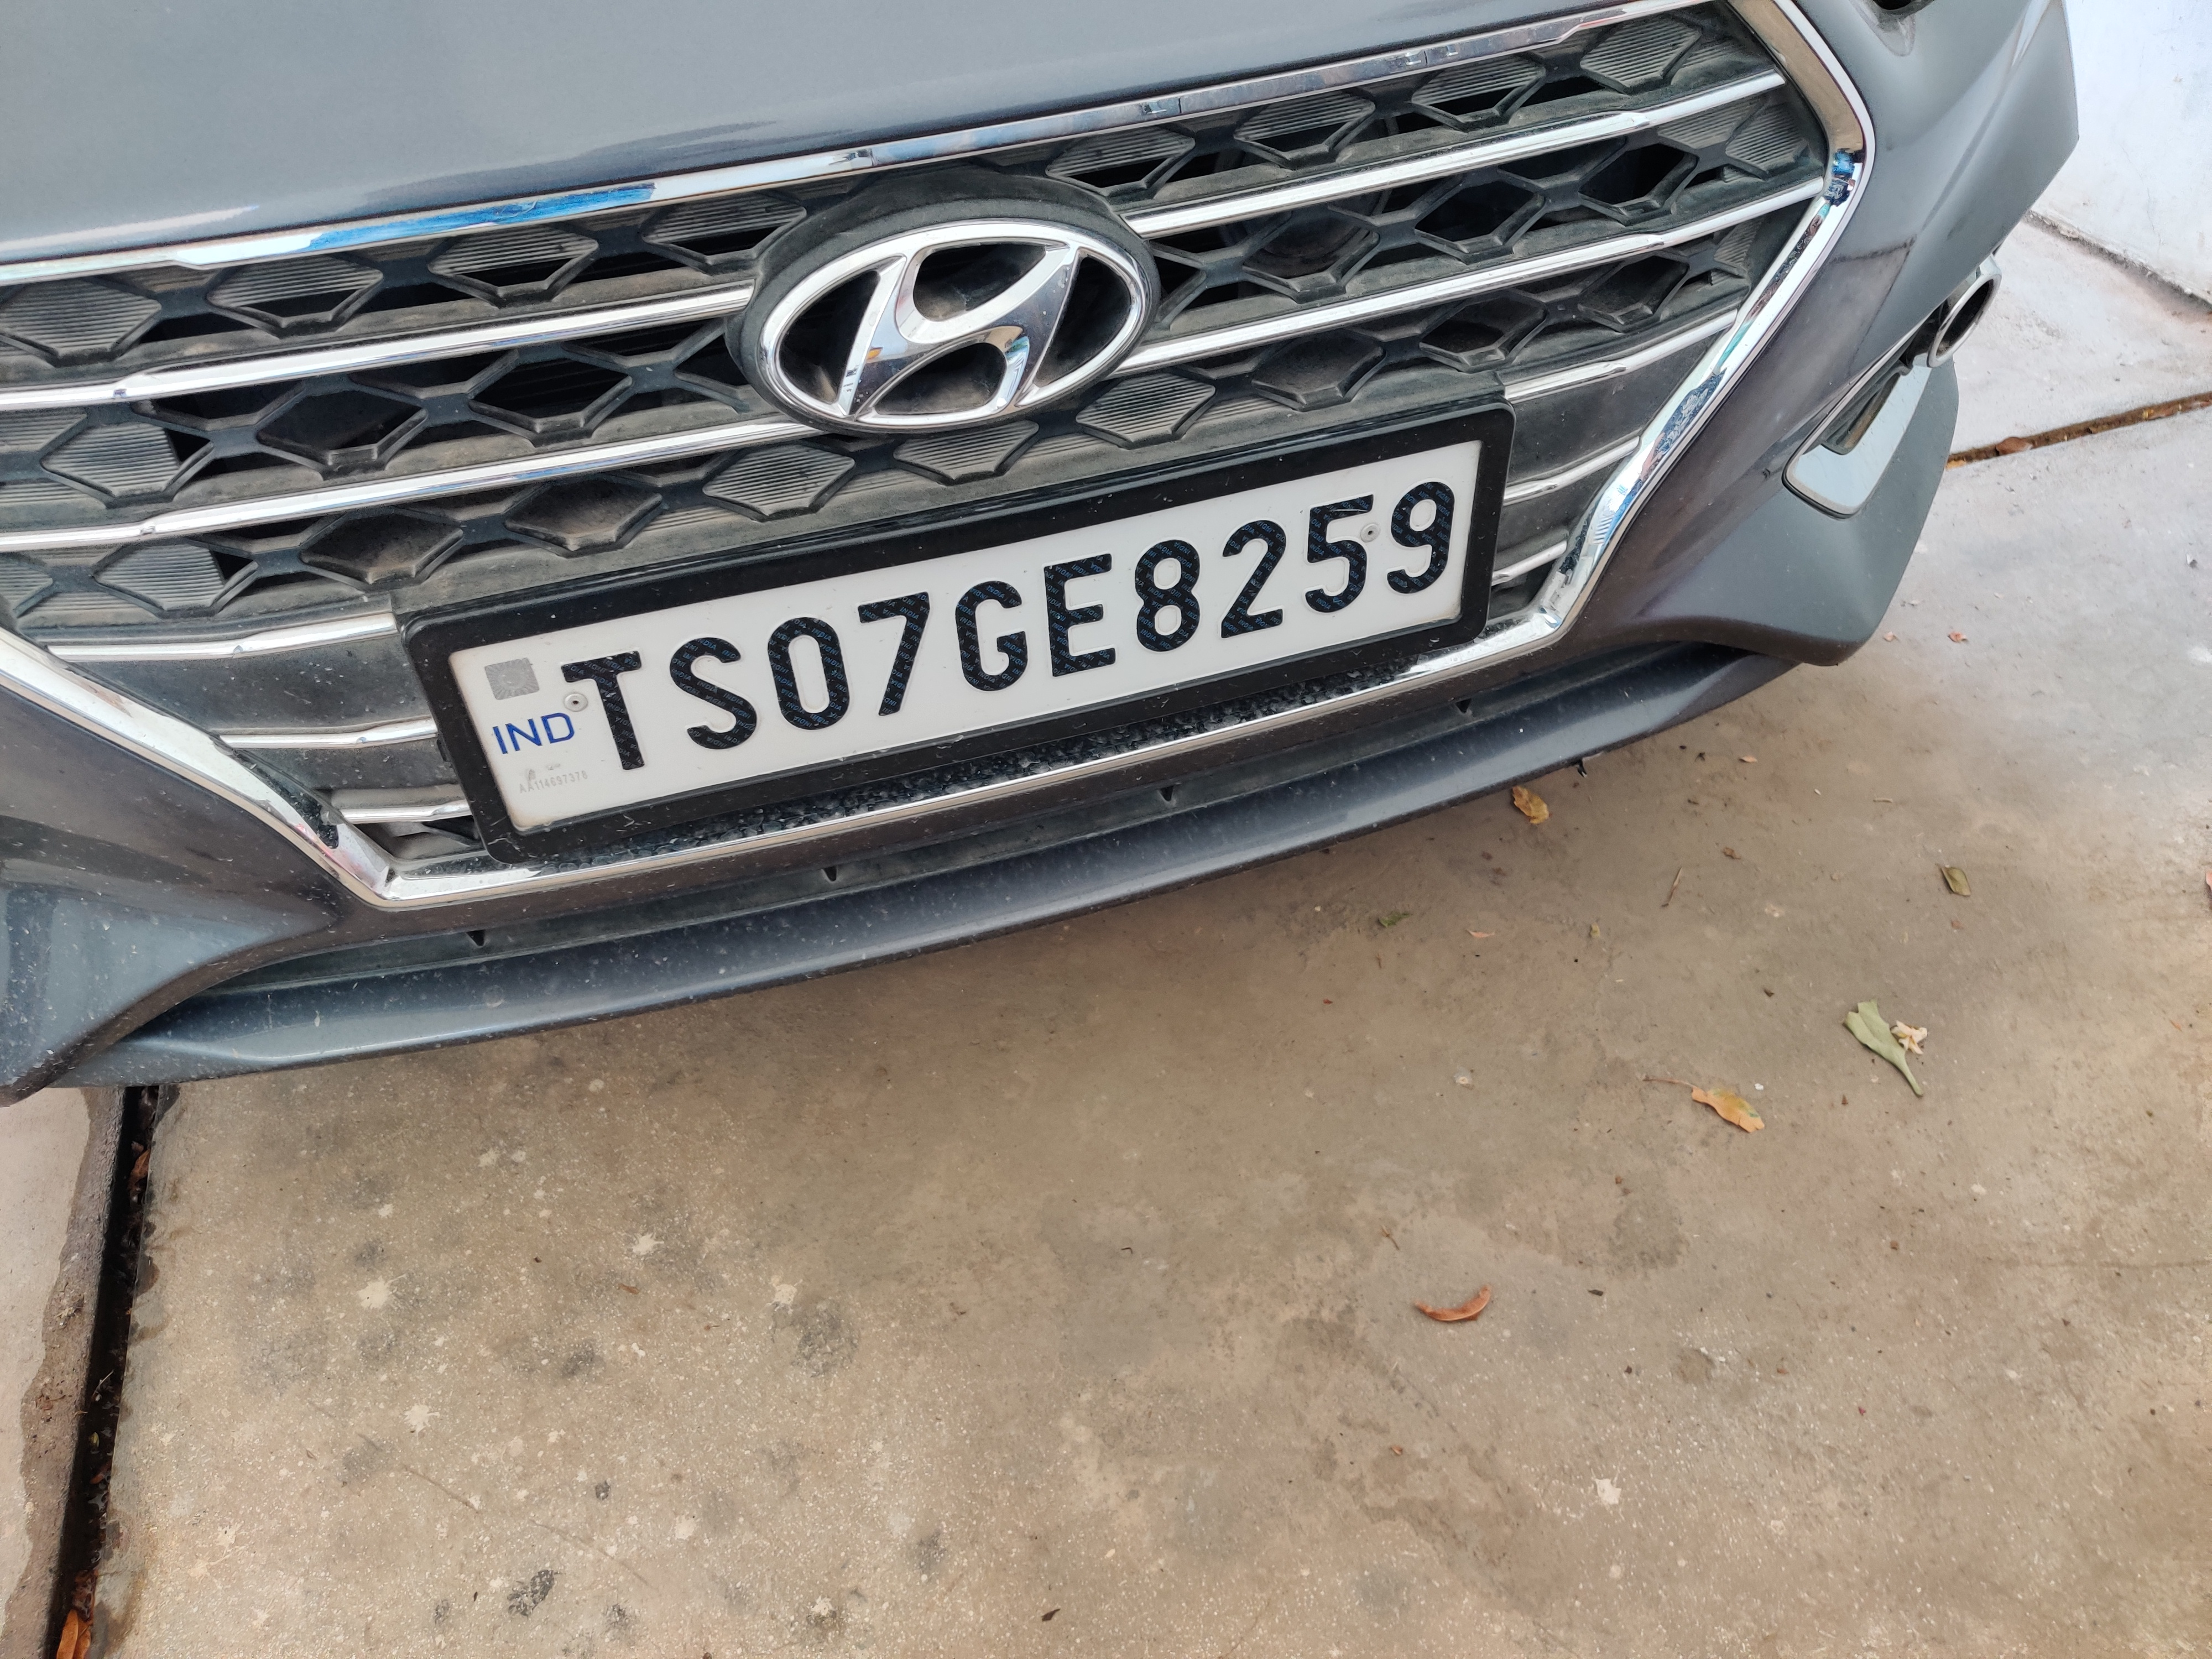plate: (369, 398, 1548, 859)
